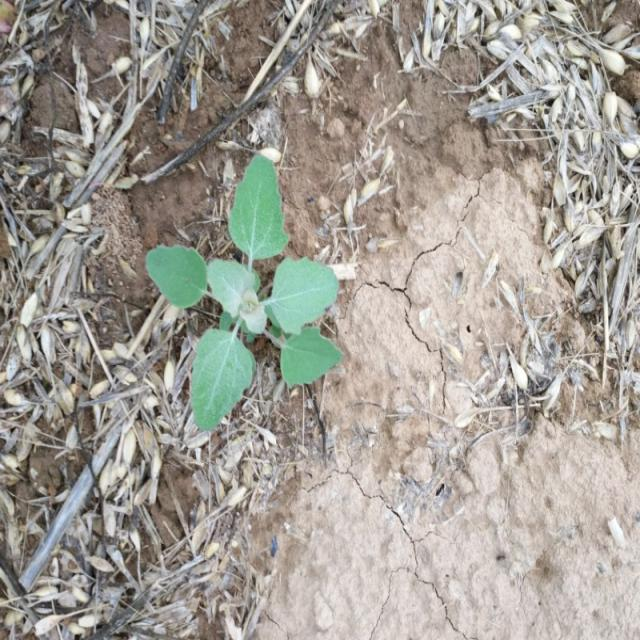goosefoots: (142, 176, 350, 404)
